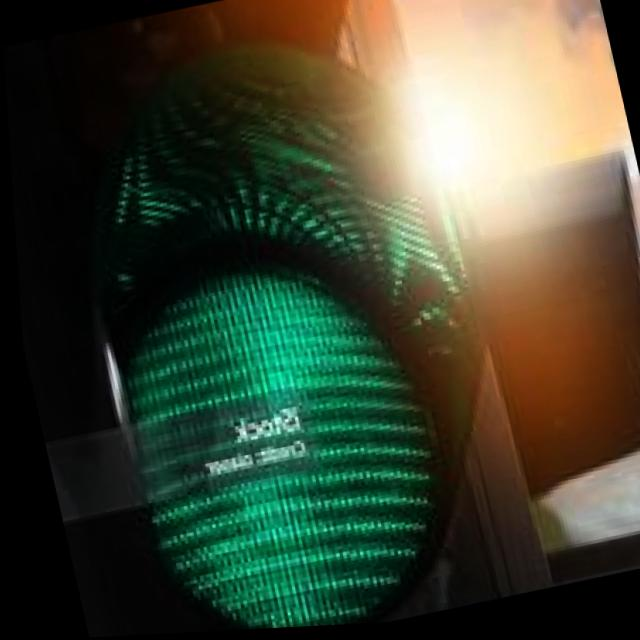green_light: (6, 98, 557, 640)
